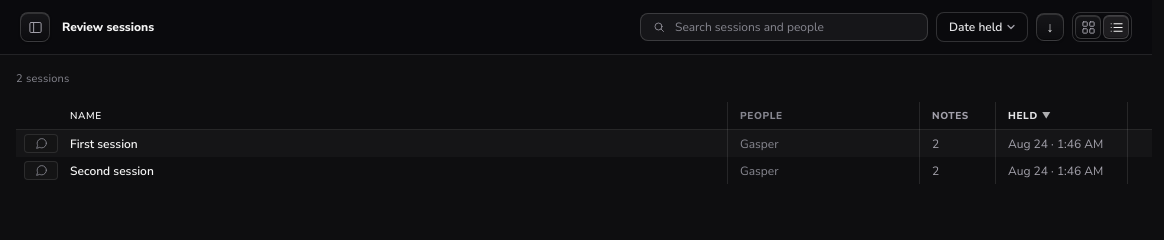
Test: Open session › copies the clicked session name rather than acting on the whole selection
Right-click the button "Second session Gasper 2 Aug 24 · 1:46 AM" at (41,171), box left=16, top=157, right=1152, bottom=184
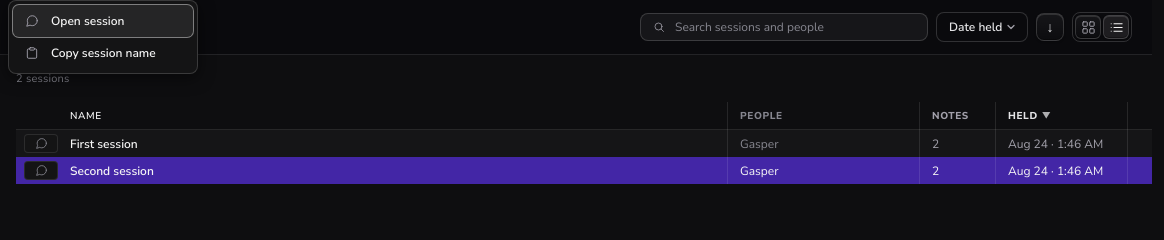
Click the menu item "Copy session name" at (103,53), box left=13, top=37, right=193, bottom=69
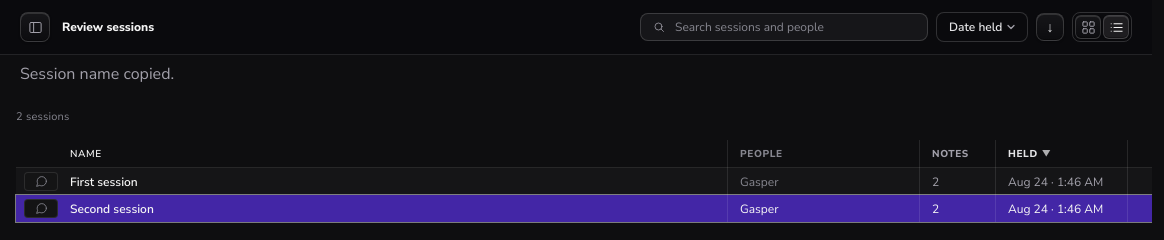
expect the text "Session name copied." is shown: met, box left=20, top=63, right=174, bottom=85
